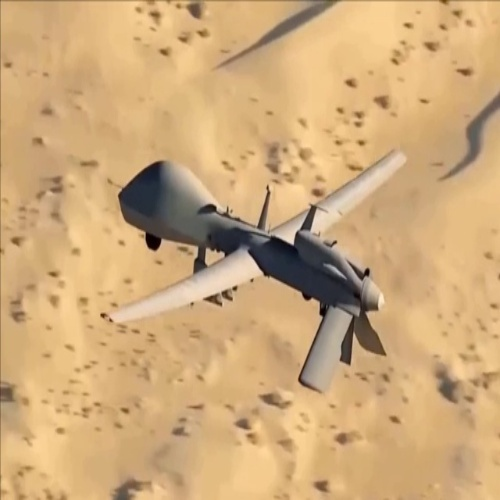uav789: (96, 149, 409, 391)
